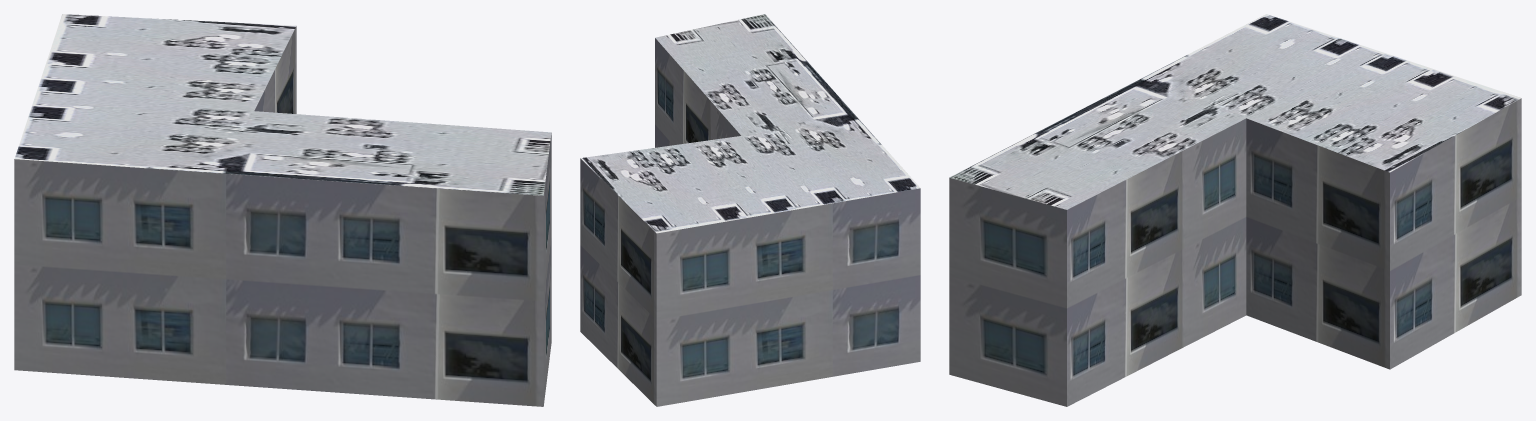
Rendered from ResTex__2960.fbx.
The picture shows the model from 3 angles, left to right: view 1: azimuth 30°, elevation 25°; view 2: azimuth 150°, elevation 25°; view 3: azimuth 270°, elevation 25°; orthographic projection. The views are drawn at different scales.
Visible parts, largest first — view 1: CityEngineMaterial_10_m, CityEngineMaterial_8_m; view 2: CityEngineMaterial_10_m, CityEngineMaterial_8_m; view 3: CityEngineMaterial_10_m, CityEngineMaterial_8_m.
Part boxes in pixels (box(x1,y1,x2,y2)): CityEngineMaterial_10_m: box(14, 26, 551, 406); CityEngineMaterial_8_m: box(14, 14, 551, 195); CityEngineMaterial_10_m: box(580, 38, 920, 406); CityEngineMaterial_8_m: box(580, 14, 920, 233); CityEngineMaterial_10_m: box(949, 98, 1521, 406); CityEngineMaterial_8_m: box(949, 14, 1521, 209).
Size of the model in its own units: 12.79 by 6 by 15.8.
2 materials, 2 textured.
